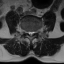CCS_normal: (29, 28, 32, 38)
LFS_stenosis: (34, 27, 37, 35)
LLS_normal: (32, 28, 34, 36)
RFS_stenosis: (25, 28, 27, 35)
RLS_normal: (27, 28, 29, 36)
